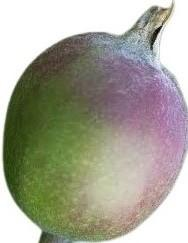fruit: (0, 7, 188, 243)
